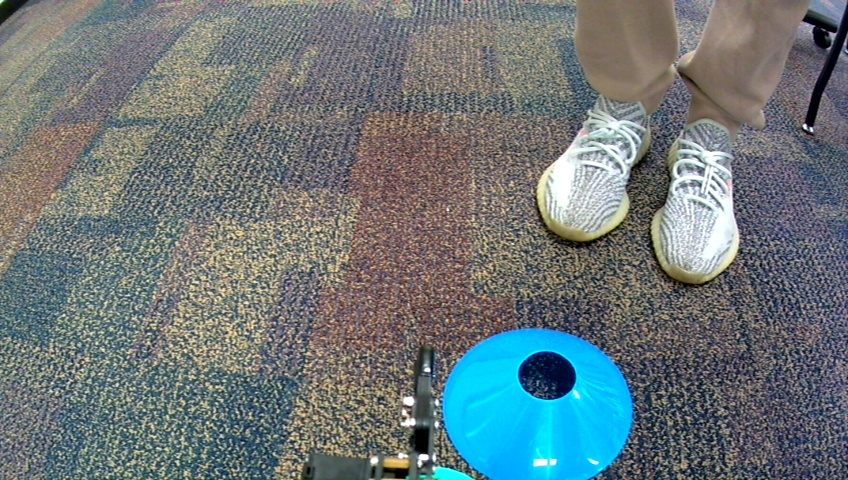cone: (441, 326, 633, 480)
